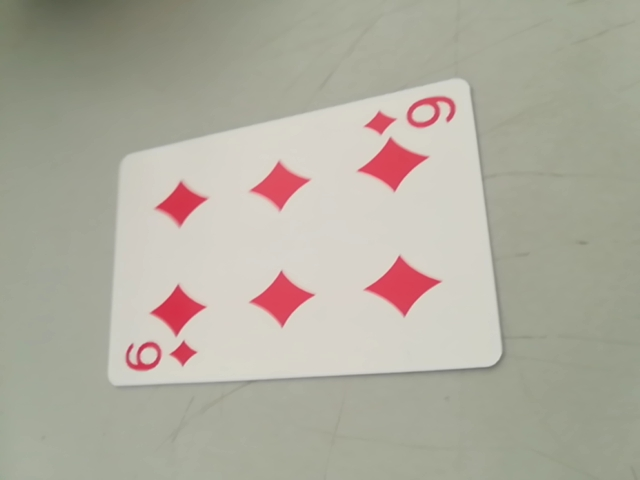fk 6: (365, 91, 460, 138), (118, 332, 203, 383)
